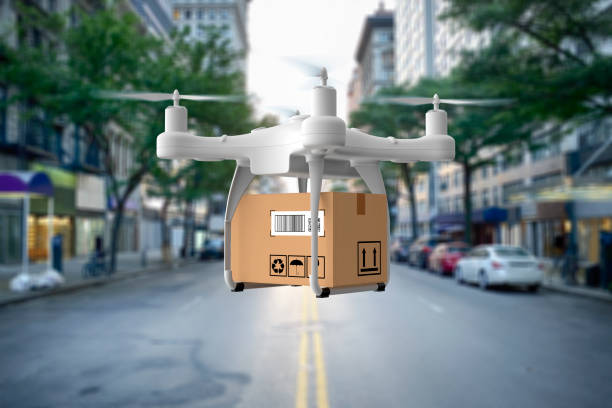Drone: (91, 59, 521, 191)
